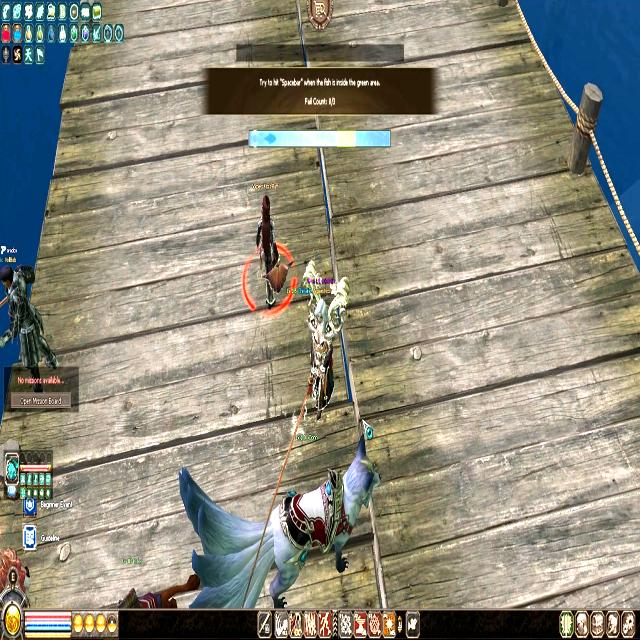fishes: (266, 132, 276, 144)
